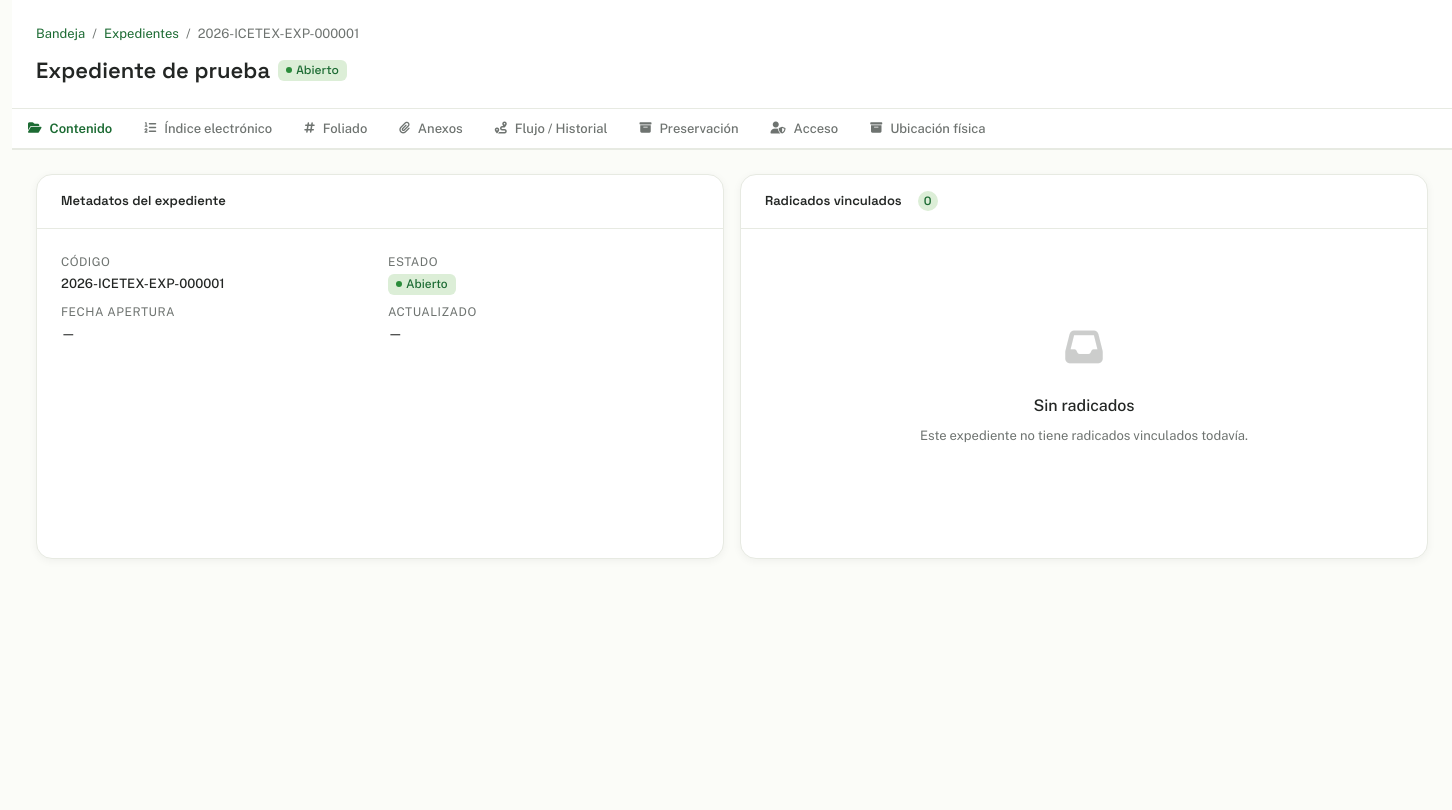
pestaña Preservación — estado de instancia › enabled=true y AIP 404: sigue el texto neutro
Click the tab "Preservación". click: (689, 130)
box: x1=624 y1=109 x2=755 y2=150
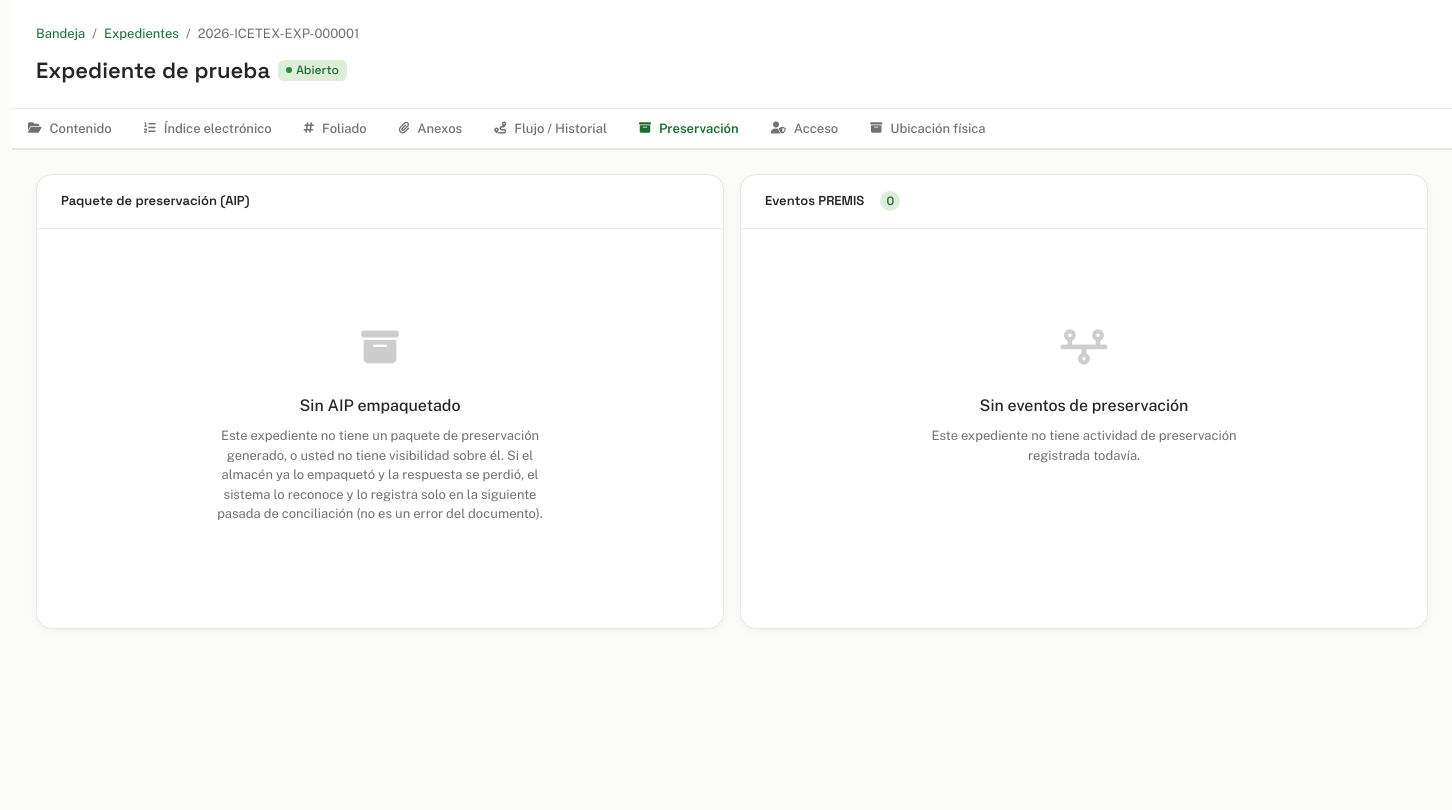
Expected: the text "Sin AIP empaquetado" is shown, x1=300 y1=393 x2=461 y2=418
